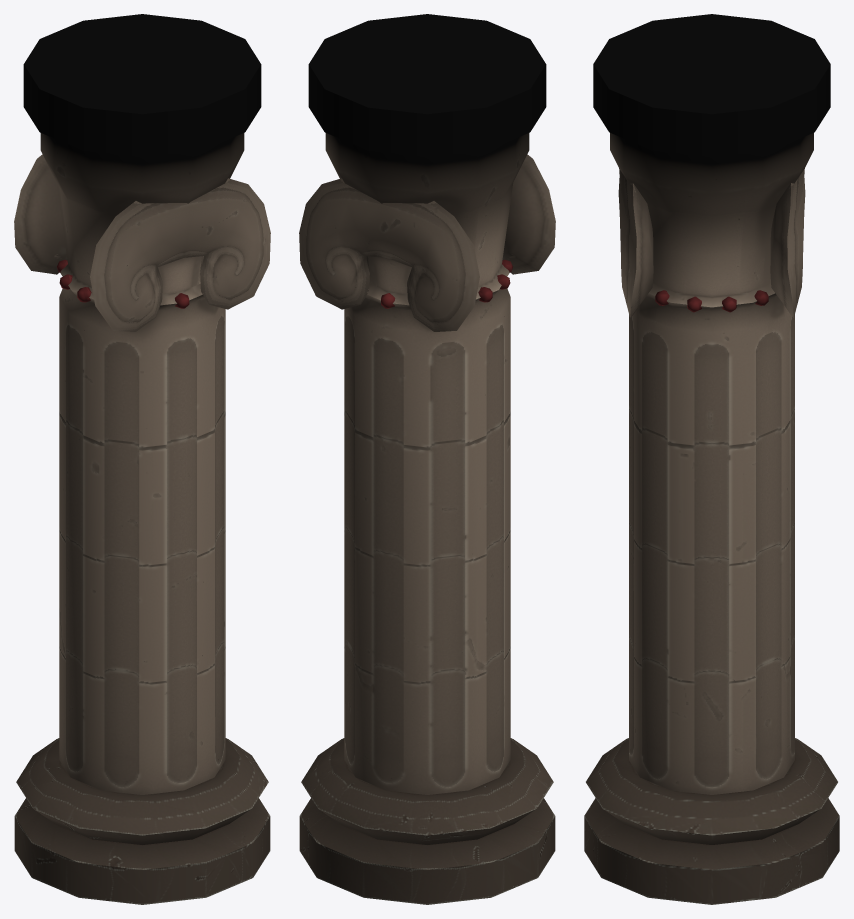
Rendered from Pillar.fbx.
The picture shows the model from 3 angles, left to right: view 1: azimuth 30°, elevation 25°; view 2: azimuth 150°, elevation 25°; view 3: azimuth 270°, elevation 25°; orthographic projection.
Parts seen in each view (by area): view 1: Pillar_Low.002; view 2: Pillar_Low.002; view 3: Pillar_Low.002.
Boxes of the visible parts, box(x1,y1,x2,y2) form: Pillar_Low.002: box(14, 14, 270, 904); Pillar_Low.002: box(299, 14, 555, 904); Pillar_Low.002: box(584, 14, 839, 904).
Size of the model in its own units: 600 by 2038 by 600.
